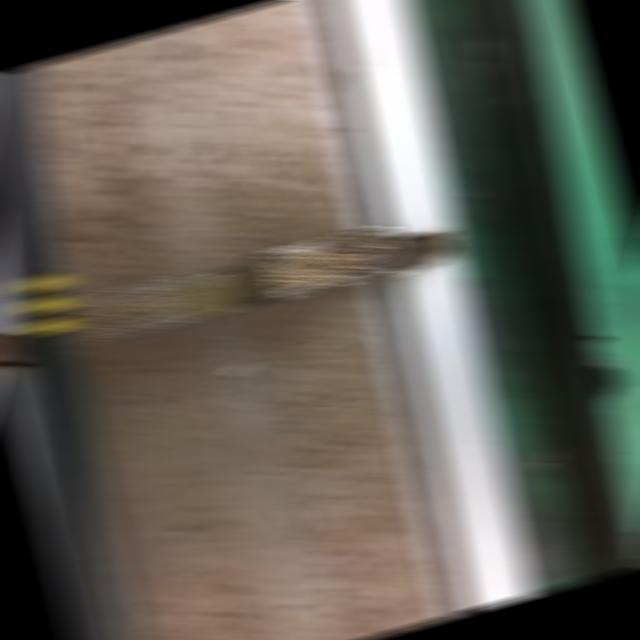yellow: (2, 271, 76, 344)
